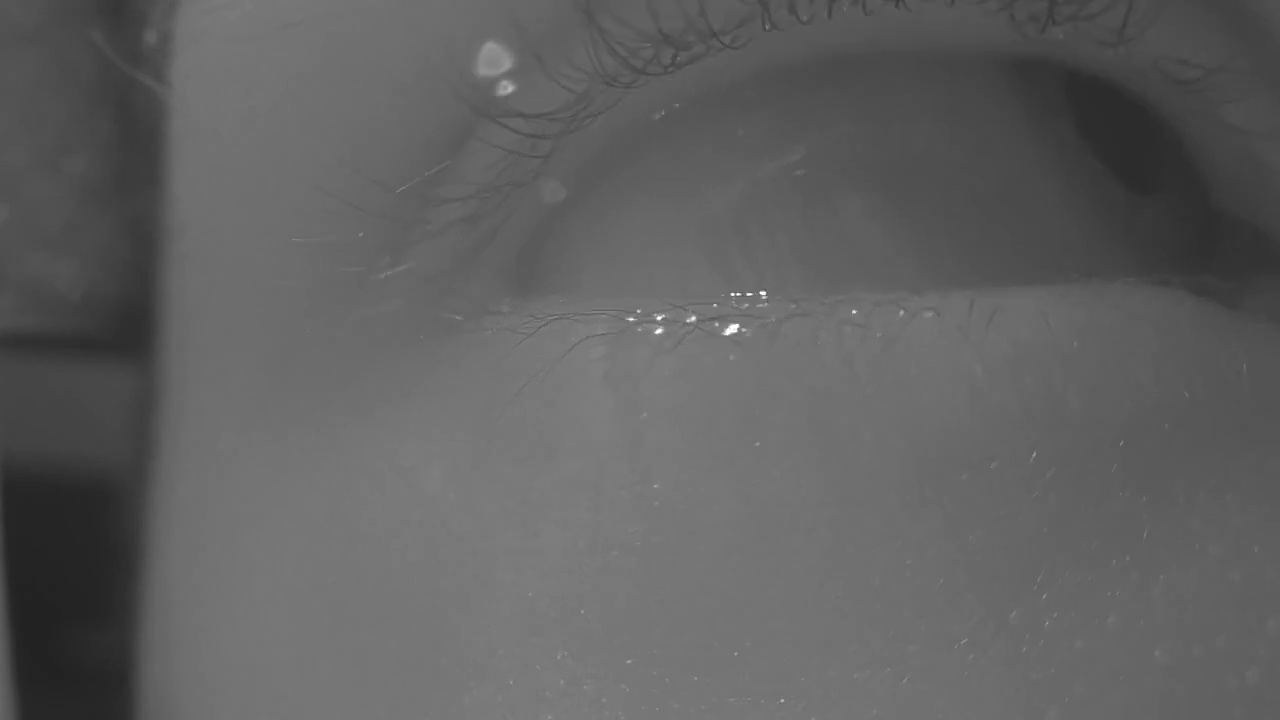pupil: (1064, 69, 1164, 193)
